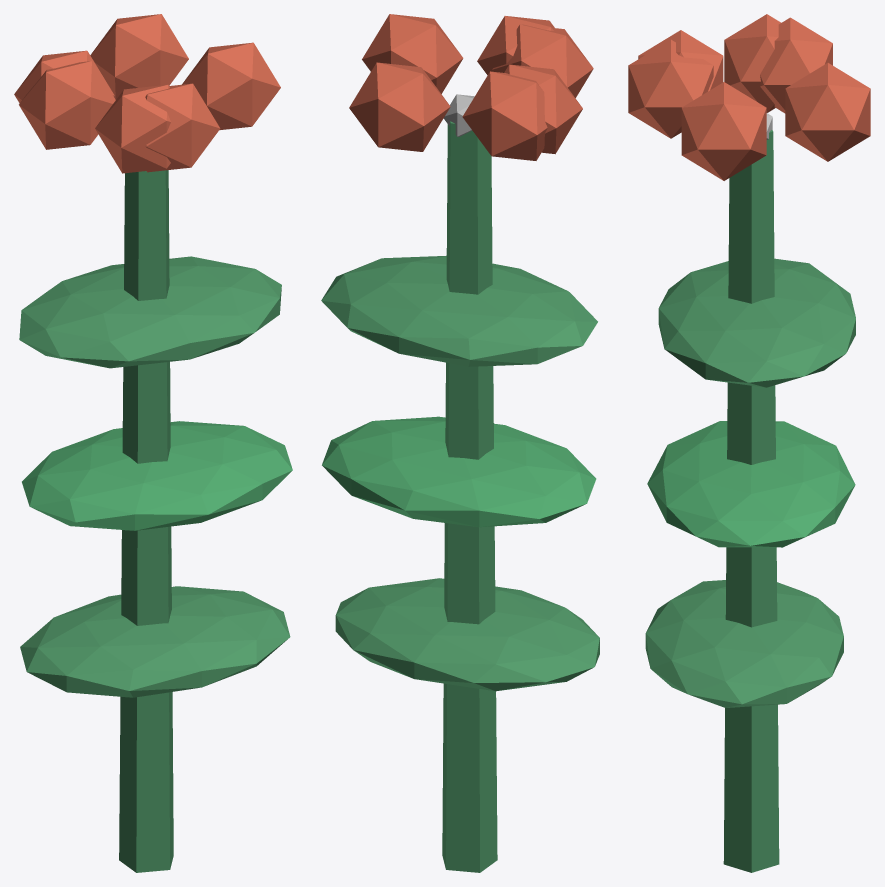
File: rivina-humilis.glb
The picture shows the model from 3 angles, left to right: view 1: azimuth 30°, elevation 25°; view 2: azimuth 150°, elevation 25°; view 3: azimuth 270°, elevation 25°; orthographic projection.
Parts seen in each view (by area): view 1: stem, leaf0, leaf1, leaf2, berry1, berry3, berry2, berry4, berry0, berry5; view 2: stem, leaf2, leaf1, leaf0, berry2, berry5, berry3, berry4, berry1, berry0, head; view 3: stem, leaf1, leaf2, leaf0, berry2, berry3, berry0, berry5, berry1, berry4.
Boxes of the visible parts, box(x1,y1,x2,y2) form: stem: box(119, 170, 173, 872); leaf0: box(20, 586, 290, 697); leaf1: box(22, 421, 292, 530); leaf2: box(19, 256, 281, 368); berry1: box(19, 61, 115, 149); berry3: box(182, 42, 280, 130); berry2: box(90, 14, 188, 99); berry4: box(95, 84, 170, 173); berry0: box(145, 83, 220, 172); berry5: box(14, 50, 114, 103); stem: box(442, 121, 497, 872); leaf2: box(321, 255, 597, 366); leaf1: box(322, 416, 596, 527); leaf0: box(335, 578, 599, 691); berry2: box(349, 62, 450, 151); berry5: box(462, 71, 547, 160); berry3: box(362, 14, 463, 93); berry4: box(492, 24, 593, 97); berry1: box(504, 64, 582, 154); berry0: box(477, 16, 554, 74); head: box(443, 94, 474, 136); stem: box(723, 130, 779, 872); leaf1: box(647, 421, 855, 547); leaf2: box(658, 258, 855, 387); leaf0: box(645, 580, 843, 707); berry2: box(785, 63, 870, 161); berry3: box(681, 82, 766, 180); berry0: box(628, 39, 713, 138); berry5: box(760, 17, 832, 113); berry1: box(724, 14, 781, 112); berry4: box(638, 30, 723, 91).
Size of the model in its own units: 0.1429 by 0.4241 by 0.1162.
